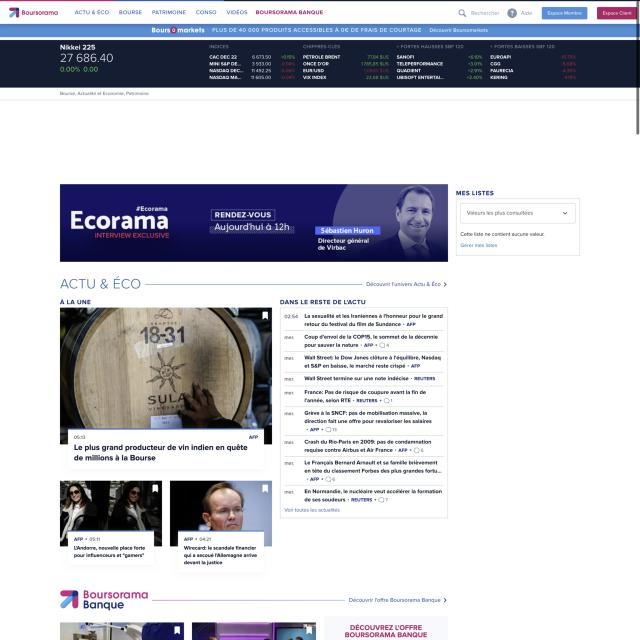logo: (58, 587, 149, 611), (6, 5, 61, 19)
navigation: (72, 6, 326, 18)
